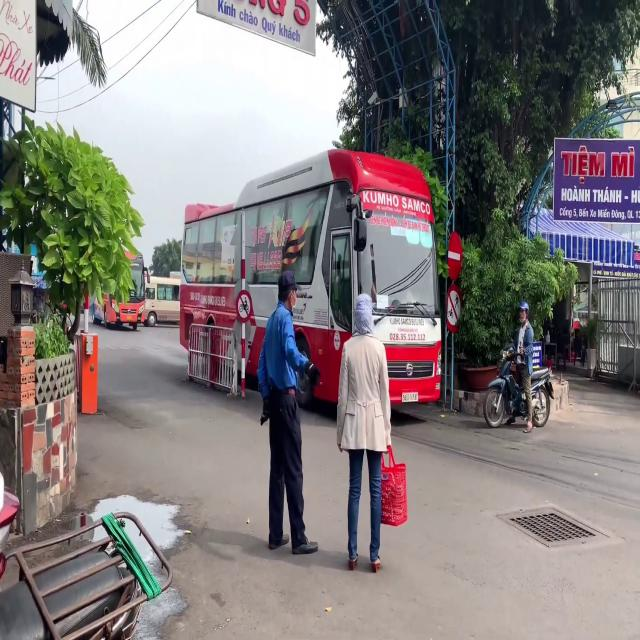bien_trang: (402, 391, 418, 402)
